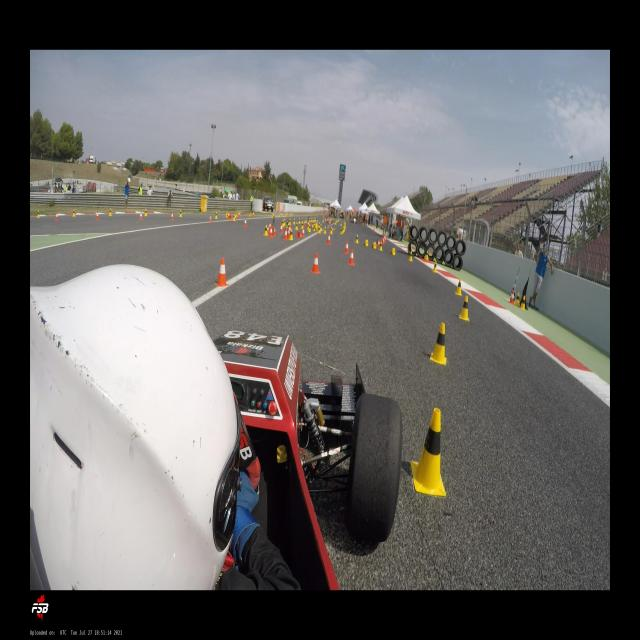orange_cone: (214, 258, 229, 286), (309, 253, 320, 273), (347, 249, 355, 265), (344, 240, 349, 253), (509, 292, 514, 304), (326, 234, 331, 244), (284, 228, 288, 240), (269, 226, 273, 238), (296, 231, 302, 238), (273, 226, 276, 236), (268, 222, 271, 232), (244, 218, 247, 228), (56, 212, 59, 220), (96, 212, 99, 220), (288, 227, 290, 237), (302, 228, 304, 237), (280, 224, 282, 233), (140, 212, 142, 220), (171, 212, 173, 220), (289, 226, 291, 233), (209, 215, 211, 222), (234, 214, 236, 220), (229, 215, 231, 219), (239, 212, 240, 218), (228, 213, 229, 218), (253, 212, 254, 217)
yellow_cone: (411, 408, 446, 497), (429, 322, 447, 366), (459, 296, 469, 321), (455, 278, 462, 296), (520, 295, 526, 311), (514, 292, 520, 306), (263, 224, 268, 236), (424, 250, 429, 260), (378, 241, 383, 251), (433, 260, 437, 272), (408, 250, 412, 262), (390, 247, 396, 255), (289, 229, 293, 240), (362, 240, 368, 247), (355, 235, 359, 243), (72, 209, 76, 217), (108, 208, 112, 216), (314, 223, 318, 231), (372, 242, 376, 248), (37, 210, 40, 218), (179, 209, 182, 217), (295, 222, 298, 230), (330, 226, 333, 234), (144, 209, 147, 216), (323, 226, 326, 233), (340, 228, 343, 235), (233, 213, 235, 221), (282, 219, 284, 227), (308, 224, 310, 232), (318, 225, 320, 233), (215, 212, 217, 219), (284, 218, 286, 225), (286, 221, 288, 228), (289, 218, 291, 225), (301, 222, 303, 229), (312, 221, 314, 228), (313, 223, 315, 230), (226, 212, 228, 218), (236, 213, 239, 217), (293, 218, 295, 224), (298, 218, 300, 224), (305, 217, 307, 223), (302, 218, 303, 224)
